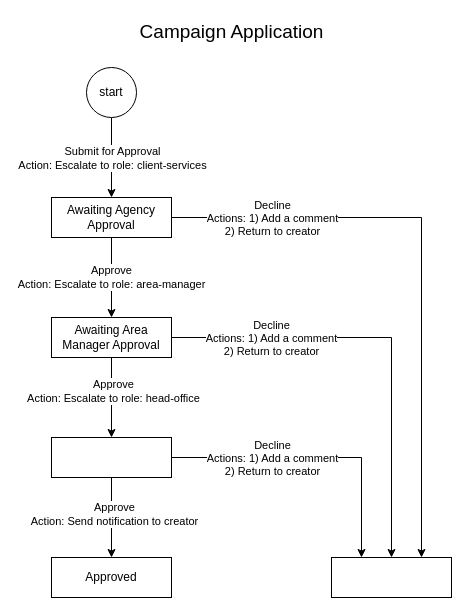
Some shapes in this 469 by 615 pixel diagram are drawn without their labels. The box of each missing label's shape, as (x1, y1, x2, y2) in pixels:
Awaiting Head Office Approval: (50, 436, 172, 478)
Declined: (330, 556, 452, 598)
